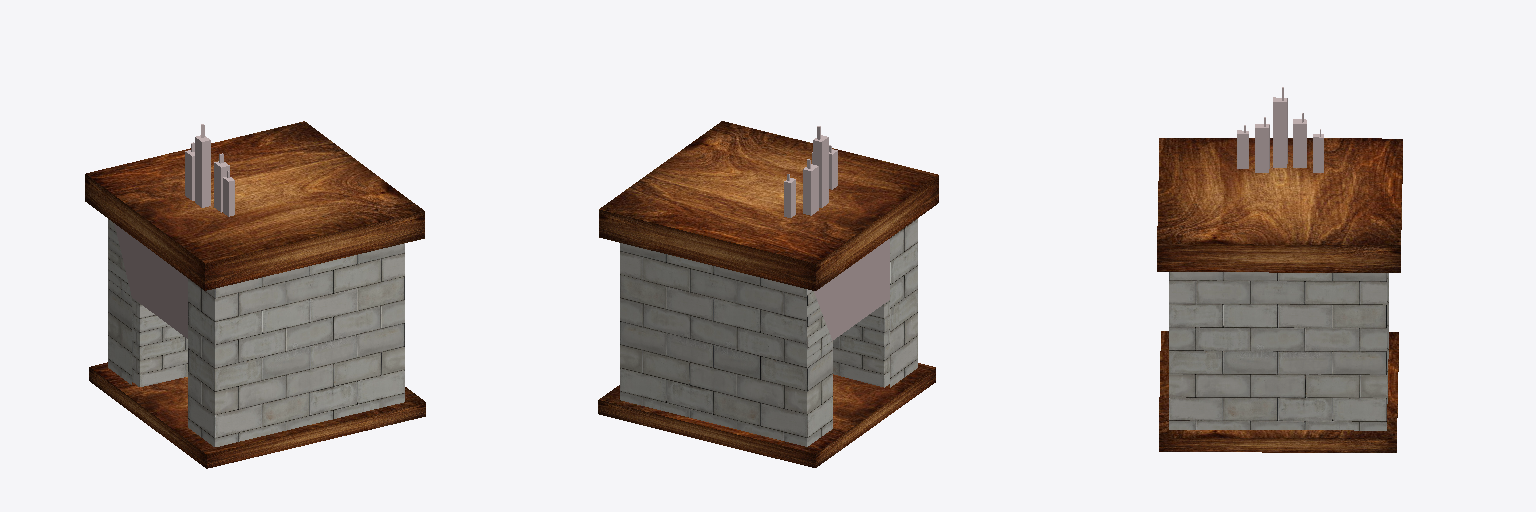
3 renders of one model, left to right at view 1: azimuth 30°, elevation 25°; view 2: azimuth 150°, elevation 25°; view 3: azimuth 270°, elevation 25°, orthographic.
Visible parts, largest first — view 1: pCube15; view 2: pCube15; view 3: pCube15.
Part boxes in pixels (x1,y1,x2,y2): pCube15: (85,121,425,468); pCube15: (598,121,938,467); pCube15: (1157,87,1402,452).
Bounding box in the file's own units: 4.19 × 5.16 × 4.01.
Materials: 13 (6 with a texture image).